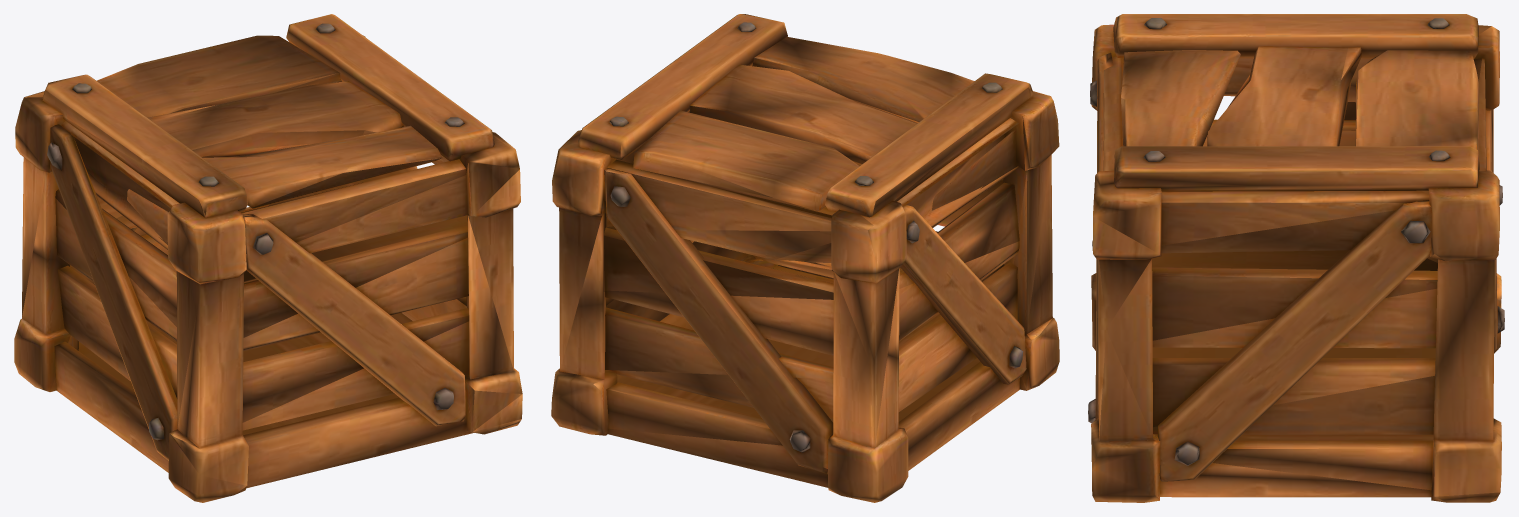
File: wooden_crate.glb
3 renders of one model, left to right at view 1: azimuth 30°, elevation 25°; view 2: azimuth 150°, elevation 25°; view 3: azimuth 270°, elevation 25°, orthographic. The views are drawn at different scales.
Parts seen in each view (by area): view 1: wooden_crate; view 2: wooden_crate; view 3: wooden_crate.
Boxes of the visible parts, x1,y1,x2,y2 form: wooden_crate: [14, 14, 522, 502]; wooden_crate: [551, 14, 1059, 502]; wooden_crate: [1088, 14, 1504, 502].
Size of the model in its own units: 0.5243 by 0.45 by 0.5173.
Materials: 1 (1 with a texture image).
